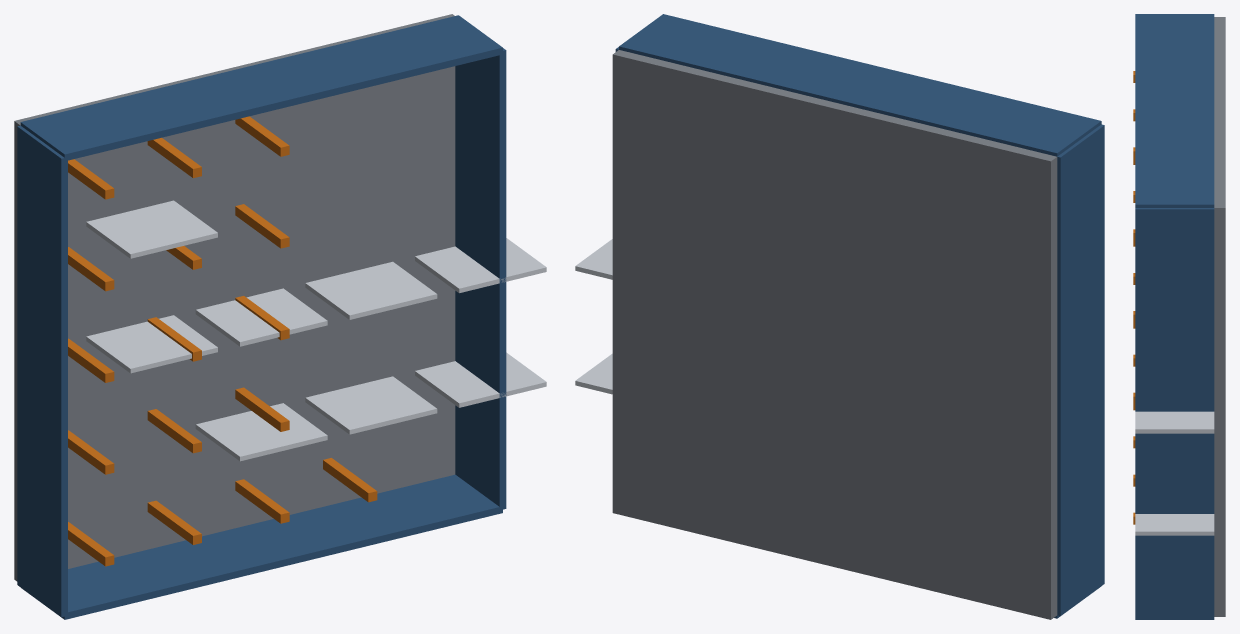
Rendered from blueprint_3d_proj1_400.obj.
3 renders of one model, left to right at view 1: azimuth 30°, elevation 25°; view 2: azimuth 150°, elevation 25°; view 3: azimuth 270°, elevation 25°, orthographic. The views are drawn at different scales.
Visible parts, largest first — view 1: Foundation_Slab, Ext_Wall_West, Ext_Wall_North, Ext_Wall_South, Ext_Wall_East, Int_Wall_6, Int_Wall_2, Int_Wall_8, Int_Wall_1, Int_Wall_5, Int_Wall_4, Int_Wall_3 (+14 smaller); view 2: Foundation_Slab, Ext_Wall_West, Ext_Wall_North, Int_Wall_3, Int_Wall_7; view 3: Ext_Wall_East, Ext_Wall_North, Foundation_Slab, Int_Wall_7, Int_Wall_3, Ext_Wall_South.
Part boxes in pixels (x1=…): Foundation_Slab: x1=14, y1=14, x2=455, y2=581; Ext_Wall_West: x1=17, y1=125, x2=67, y2=617; Ext_Wall_North: x1=20, y1=15, x2=502, y2=161; Ext_Wall_South: x1=21, y1=474, x2=502, y2=619; Ext_Wall_East: x1=455, y1=48, x2=506, y2=509; Int_Wall_6: x1=305, y1=261, x2=437, y2=319; Int_Wall_2: x1=305, y1=376, x2=437, y2=434; Int_Wall_8: x1=86, y1=200, x2=217, y2=258; Int_Wall_1: x1=195, y1=403, x2=327, y2=461; Int_Wall_5: x1=195, y1=288, x2=327, y2=346; Int_Wall_4: x1=86, y1=315, x2=217, y2=373; Int_Wall_3: x1=415, y1=352, x2=546, y2=407; Foundation_Slab: x1=612, y1=50, x2=1057, y2=619; Ext_Wall_West: x1=1057, y1=124, x2=1104, y2=615; Ext_Wall_North: x1=619, y1=14, x2=1101, y2=156; Int_Wall_3: x1=575, y1=353, x2=612, y2=394; Int_Wall_7: x1=575, y1=239, x2=612, y2=279; Ext_Wall_East: x1=1135, y1=208, x2=1214, y2=618; Ext_Wall_North: x1=1135, y1=14, x2=1214, y2=207; Foundation_Slab: x1=1214, y1=17, x2=1225, y2=616; Int_Wall_7: x1=1135, y1=411, x2=1214, y2=433; Int_Wall_3: x1=1135, y1=514, x2=1214, y2=535; Ext_Wall_South: x1=1135, y1=618, x2=1214, y2=619.
Size of the model in its own units: 22.15 by 20.3 by 4.1.
